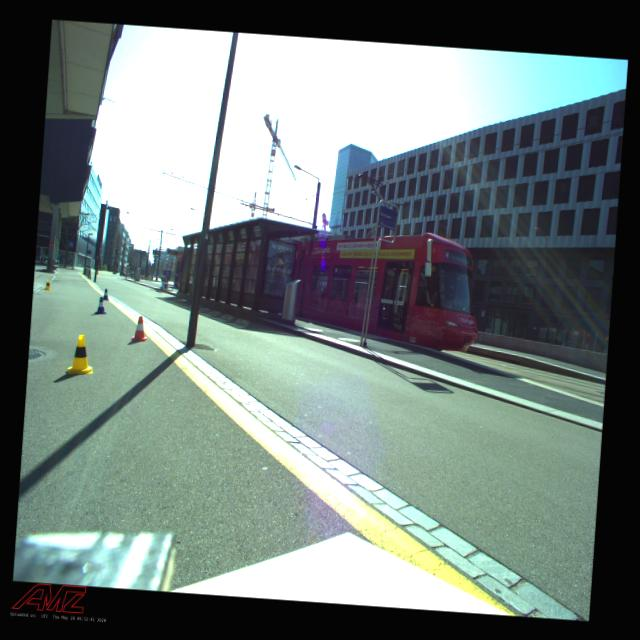blue_cone: (94, 296, 108, 314), (102, 288, 110, 300)
orange_cone: (131, 315, 149, 341)
yellow_cone: (67, 334, 95, 374), (44, 280, 52, 290)
